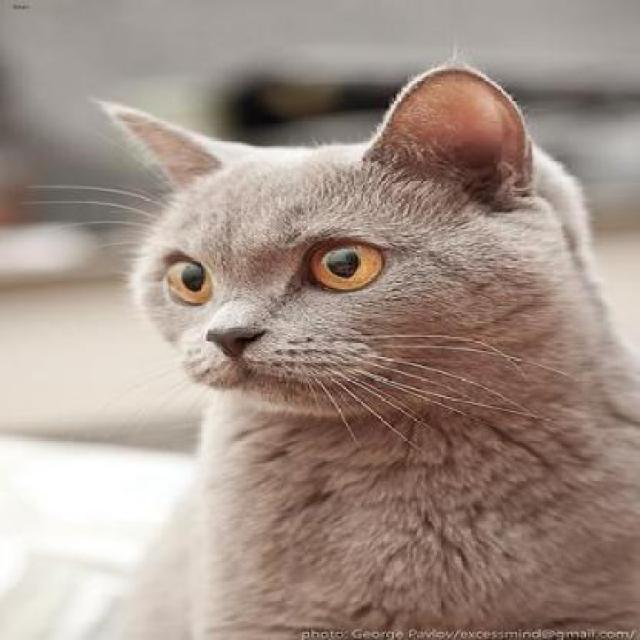cat: (96, 62, 638, 640)
